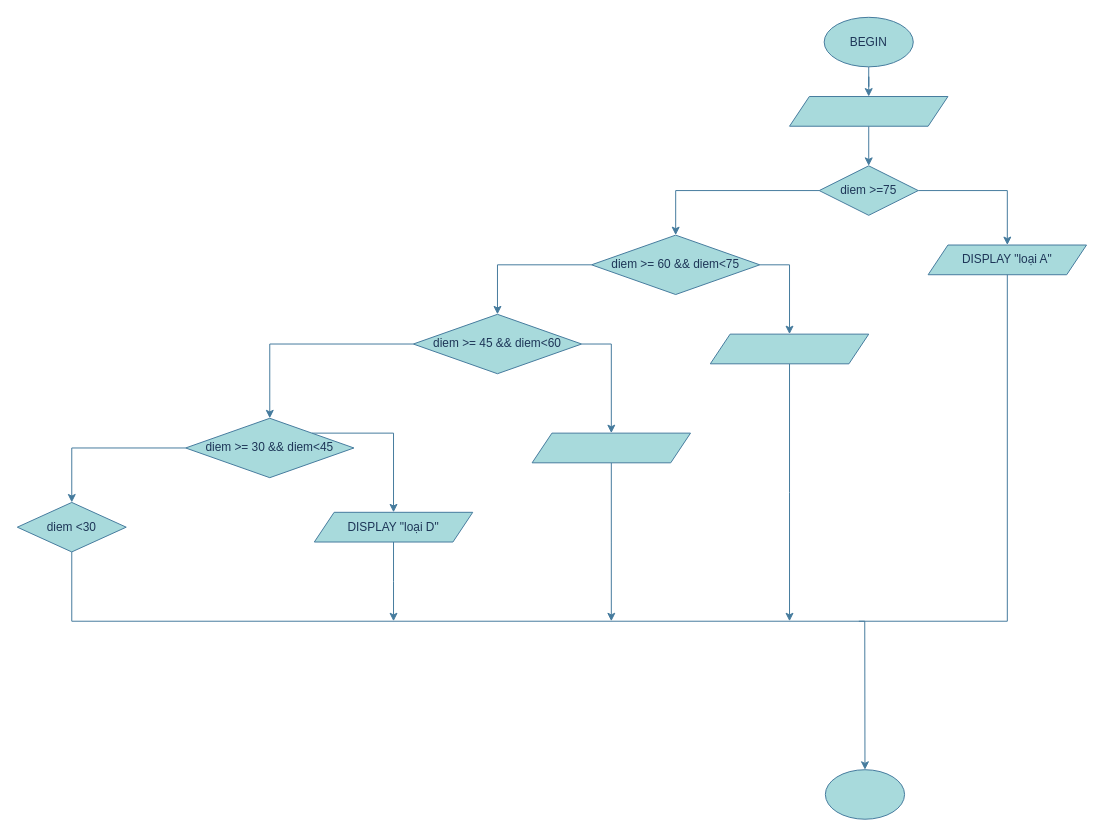
Image size: 1104x837. Some labels were removed from this diagram. Each missing label, with the centre of its shape:
DISPLAY "loại B": (789,348)
DISPLAY "loại C": (611,447)
End: (864,794)
INPUT diem: (868,111)
